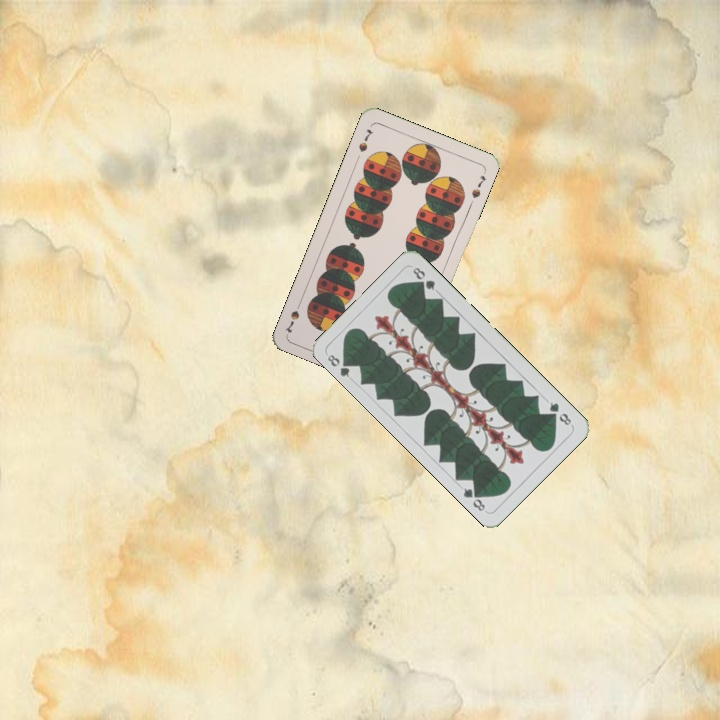G8: (323, 350, 355, 380), (545, 398, 574, 428)
S7: (355, 125, 375, 155)
